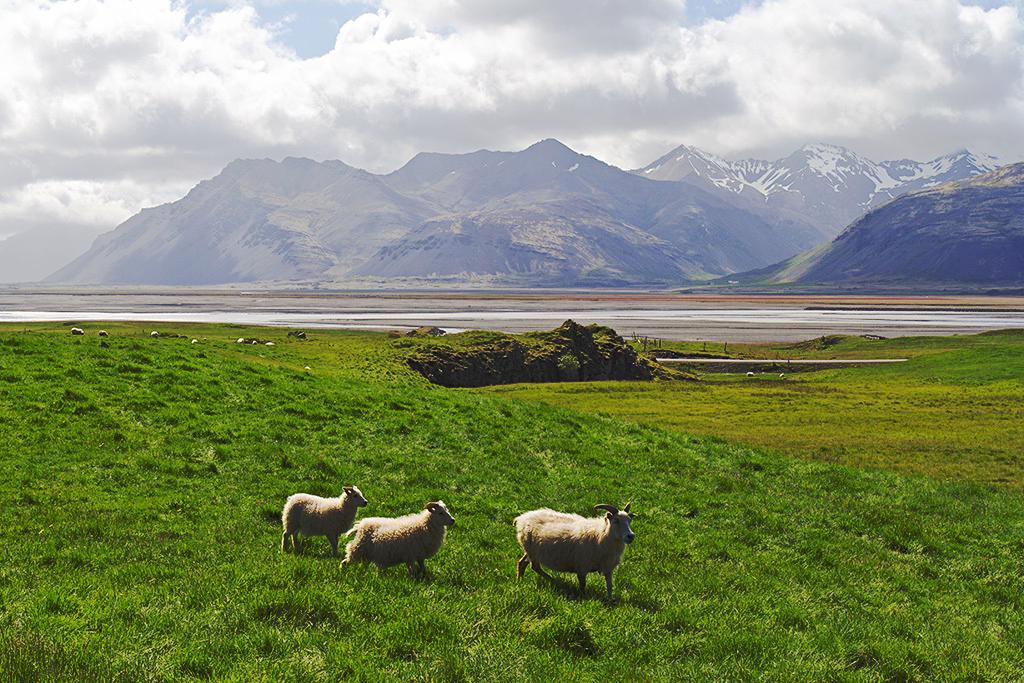Sheep: (518, 502, 636, 597), (338, 497, 458, 583), (285, 489, 369, 560)
